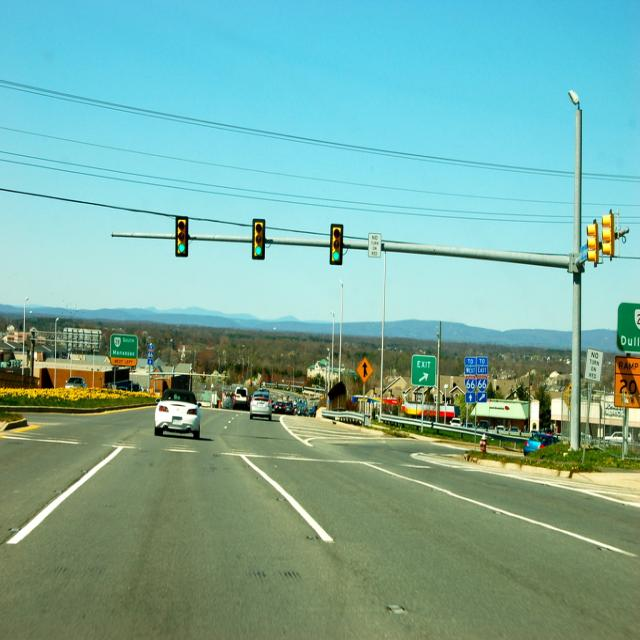car: (153, 390, 201, 439)
